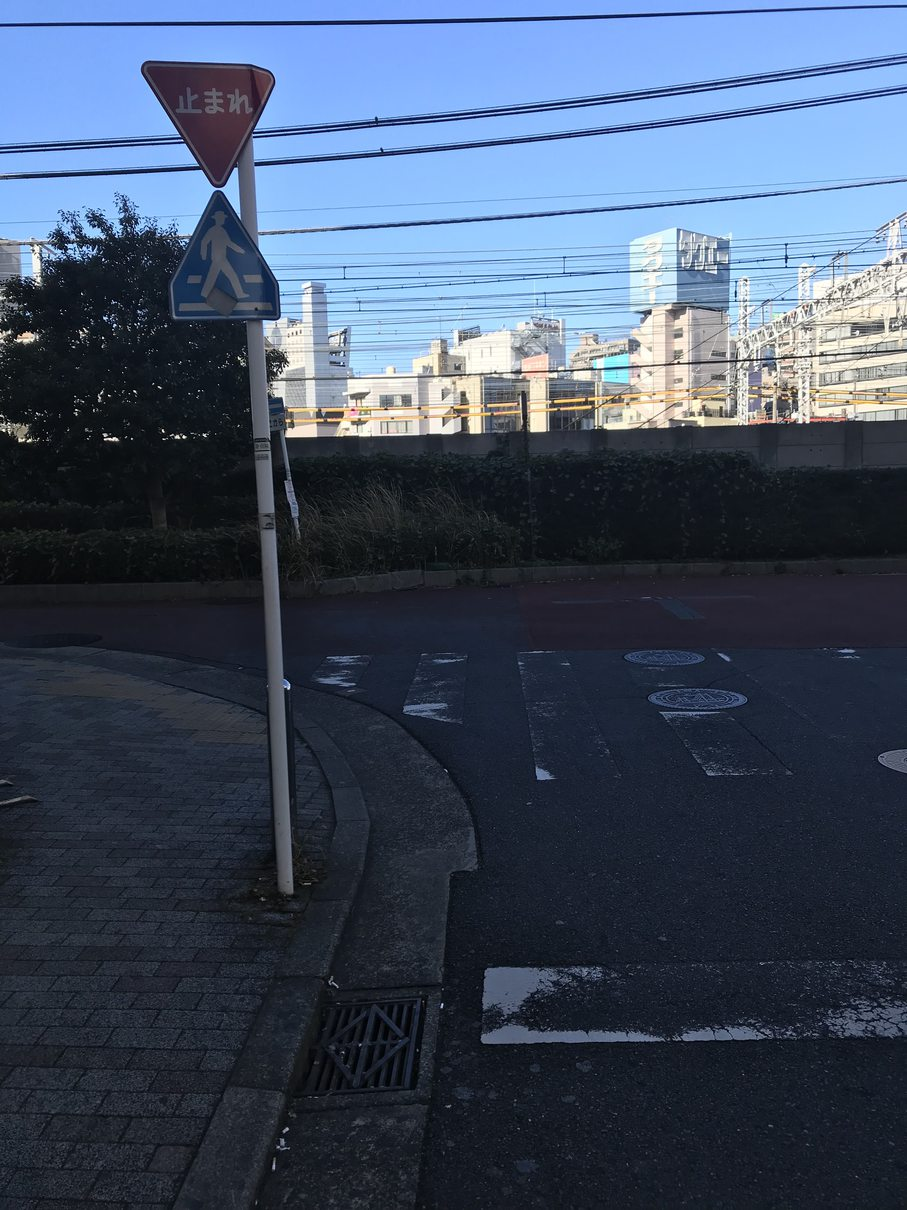stop_sign: (136, 55, 279, 191)
